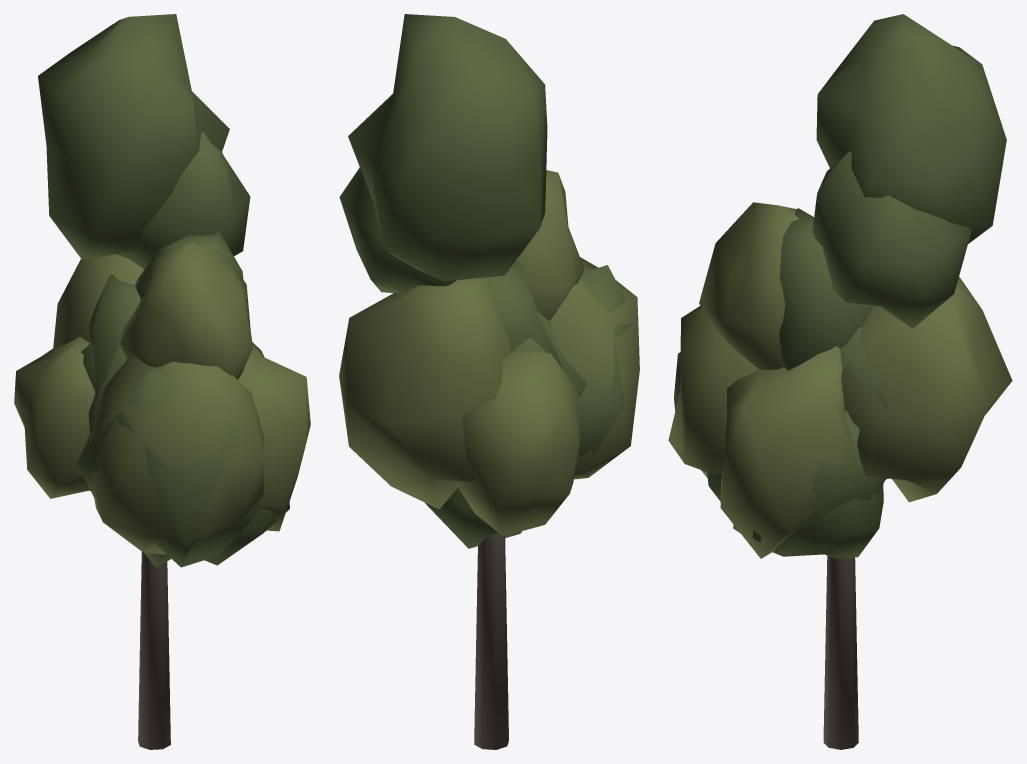
The model's file is poplar_2.glb.
3 views of the same model, side by side, from view 1: azimuth 30°, elevation 25°; view 2: azimuth 150°, elevation 25°; view 3: azimuth 270°, elevation 25° (orthographic). The views are drawn at different scales.
Visible parts, largest first — view 1: Tree; view 2: Tree; view 3: Tree.
Boxes of the visible parts, x1,y1,x2,y2 form: Tree: (14,14,310,749); Tree: (339,14,639,749); Tree: (668,14,1012,749).
Bounding box in the file's own units: 3.73 × 11.41 × 4.87.
